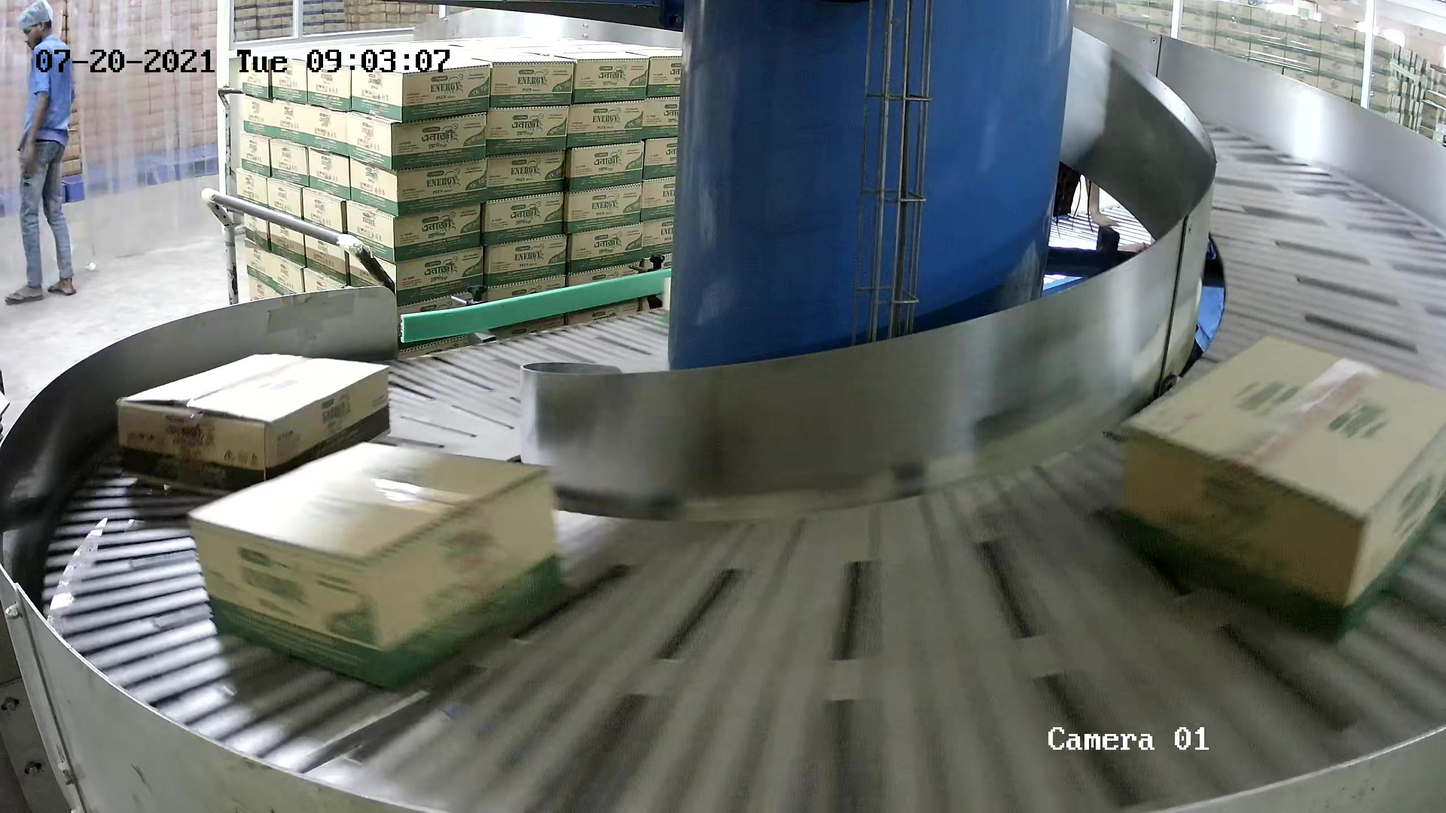Box: (1117, 330, 1446, 650), (187, 437, 565, 694), (115, 350, 392, 502)
